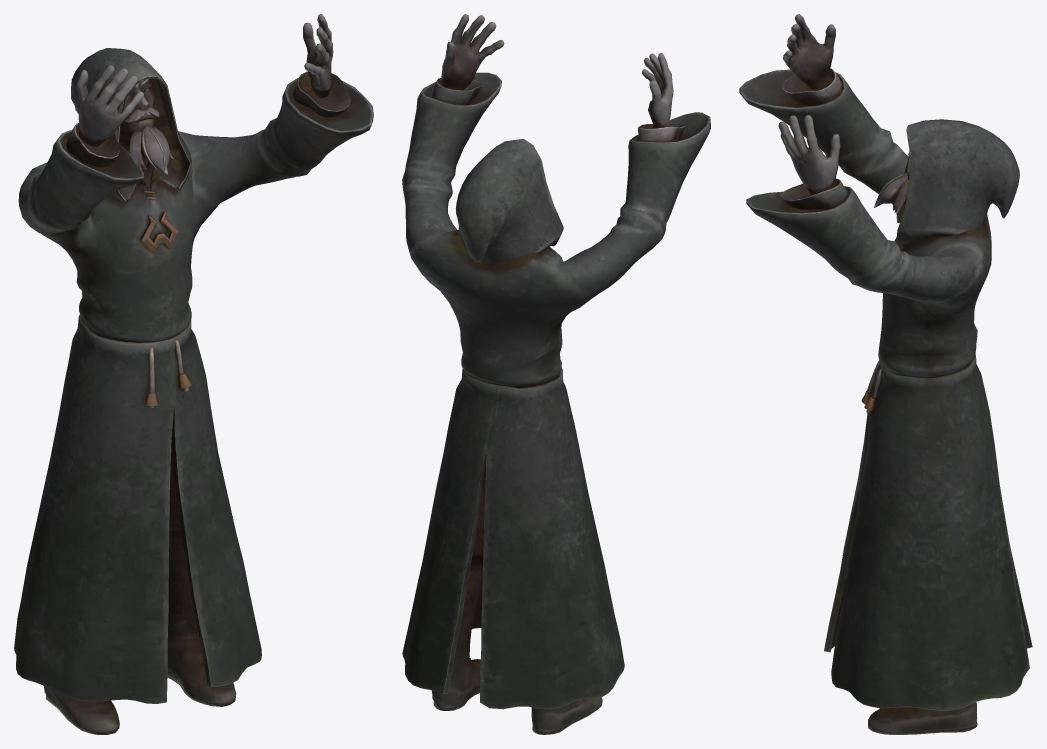
3 views of the same model, side by side, from view 1: azimuth 30°, elevation 25°; view 2: azimuth 150°, elevation 25°; view 3: azimuth 270°, elevation 25° (orthographic). The views are drawn at different scales.
Parts seen in each view (by area): view 1: SM_DR_Statue_ZamorakAcolyte_A_03_LOD0; view 2: SM_DR_Statue_ZamorakAcolyte_A_03_LOD0; view 3: SM_DR_Statue_ZamorakAcolyte_A_03_LOD0.
Boxes of the visible parts, left/top/right/bottom form: SM_DR_Statue_ZamorakAcolyte_A_03_LOD0: left=14, top=14, right=373, bottom=734; SM_DR_Statue_ZamorakAcolyte_A_03_LOD0: left=402, top=14, right=710, bottom=734; SM_DR_Statue_ZamorakAcolyte_A_03_LOD0: left=739, top=14, right=1032, bottom=734.
Size of the model in its own units: 1.86 by 4.16 by 1.72.
Materials: 1 (1 with a texture image).
